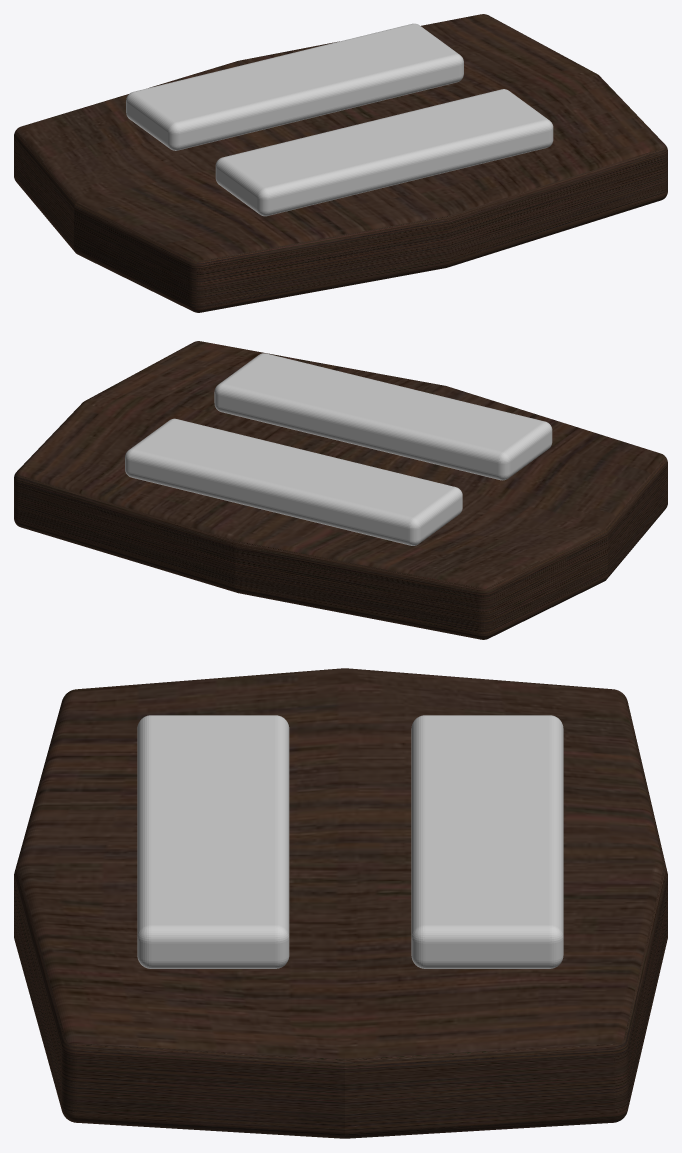
File: esc.fbx
The picture shows the model from 3 angles, top to bottom: view 1: azimuth 30°, elevation 25°; view 2: azimuth 150°, elevation 25°; view 3: azimuth 270°, elevation 25°; orthographic projection. The views are drawn at different scales.
Parts seen in each view (by area): view 1: Куб, Куб.002, Куб.001; view 2: Куб, Куб.002, Куб.001; view 3: Куб, Куб.001, Куб.002.
Boxes of the visible parts, bbox=[...] form: Куб: bbox=[14, 14, 667, 312]; Куб.002: bbox=[215, 89, 553, 216]; Куб.001: bbox=[126, 23, 463, 150]; Куб: bbox=[14, 341, 667, 639]; Куб.002: bbox=[214, 353, 552, 480]; Куб.001: bbox=[125, 418, 462, 545]; Куб: bbox=[14, 668, 667, 1138]; Куб.001: bbox=[411, 715, 563, 968]; Куб.002: bbox=[137, 715, 289, 968].
Size of the model in its own units: 667 by 102 by 468.
